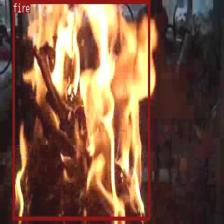fire: (12, 0, 150, 219)
